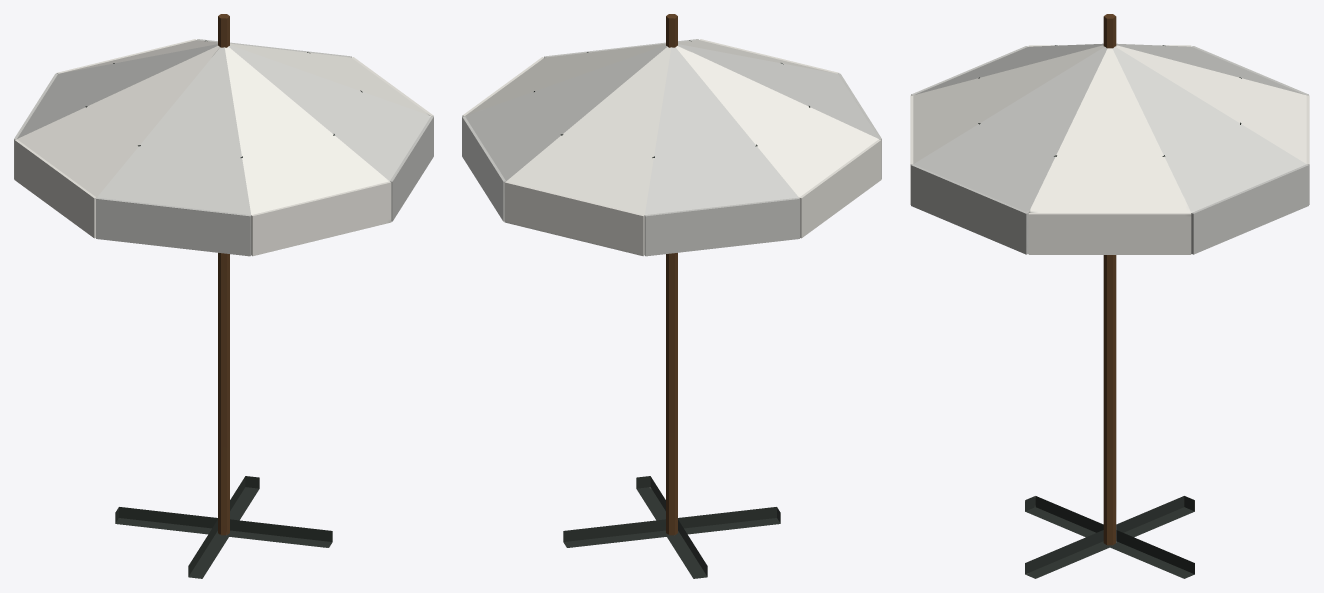
Rendered from slunecnik_64dbda57.glb.
3 views of the same model, side by side, from view 1: azimuth 30°, elevation 25°; view 2: azimuth 150°, elevation 25°; view 3: azimuth 270°, elevation 25° (orthographic).
Parts seen in each view (by area): view 1: dum; view 2: dum; view 3: dum.
Boxes of the visible parts, box(x1,y1,x2,y2) form: dum: box(14, 14, 433, 578); dum: box(462, 14, 881, 578); dum: box(910, 14, 1309, 578).
Size of the model in its own units: 1.59 by 2.31 by 1.59.
1 material, 1 textured.
